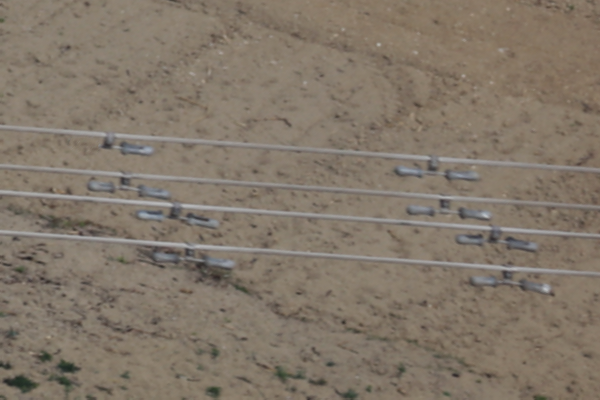damper: (404, 188, 494, 222), (463, 262, 555, 295), (150, 238, 241, 271), (391, 152, 484, 182), (85, 166, 170, 198), (454, 223, 540, 254), (134, 200, 221, 228)
damper_defect: (95, 128, 154, 157)
